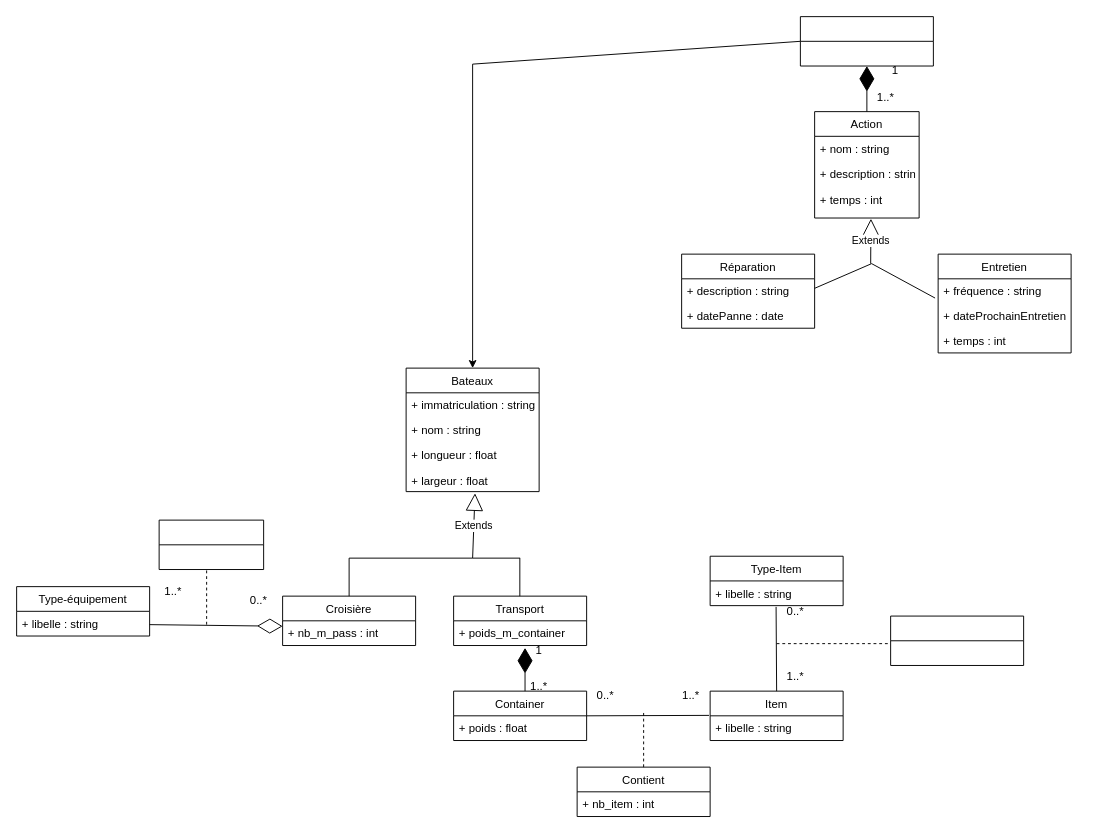
This 1113x836 diagram has some shape labels left out. Each missing label, with the centre of its shape:
"Est-de-type" belongs at point (957, 640).
"Maintenance" belongs at point (866, 41).
"Prestations" belongs at point (211, 544).
